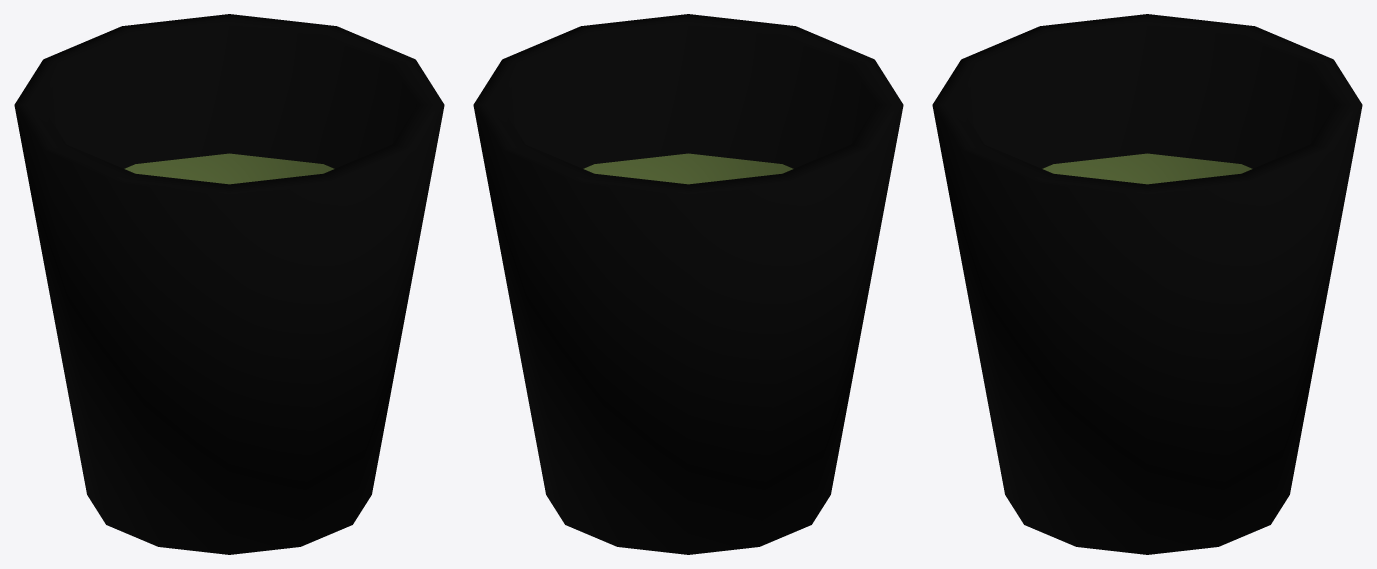
Rendered from Matcha_Bowl.fbx.
3 views of the same model, side by side, from view 1: azimuth 30°, elevation 25°; view 2: azimuth 150°, elevation 25°; view 3: azimuth 270°, elevation 25° (orthographic).
Parts seen in each view (by area): view 1: Matcha_Bowl; view 2: Matcha_Bowl; view 3: Matcha_Bowl.
Boxes of the visible parts, left/top/right/bottom form: Matcha_Bowl: left=14, top=14, right=444, bottom=554; Matcha_Bowl: left=473, top=14, right=903, bottom=554; Matcha_Bowl: left=932, top=14, right=1362, bottom=554.
Bounding box in the file's own units: 0.135 × 0.135 × 0.135.
